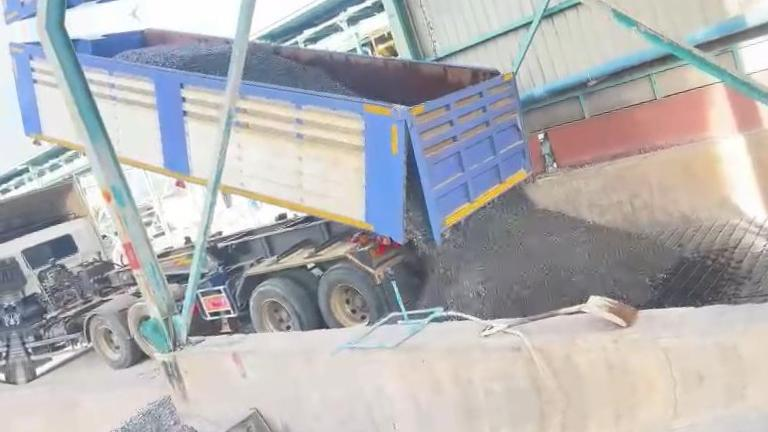gravel: (406, 158, 684, 317), (244, 44, 358, 95), (82, 397, 200, 432), (115, 44, 231, 76)
